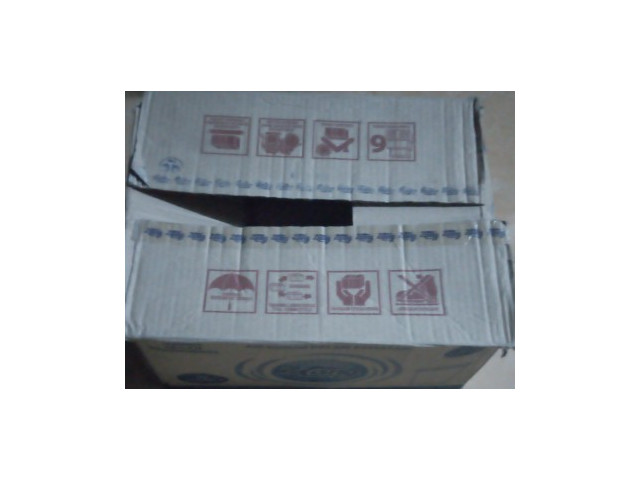cardboard: (128, 95, 513, 385)
